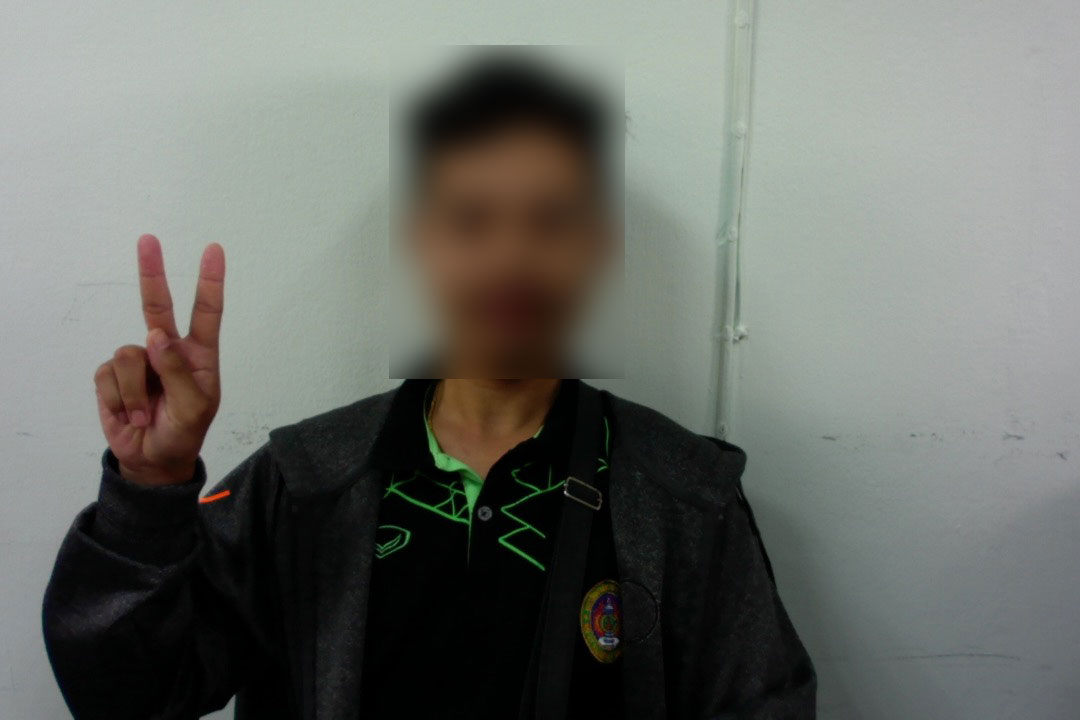ko: (89, 229, 235, 482)
